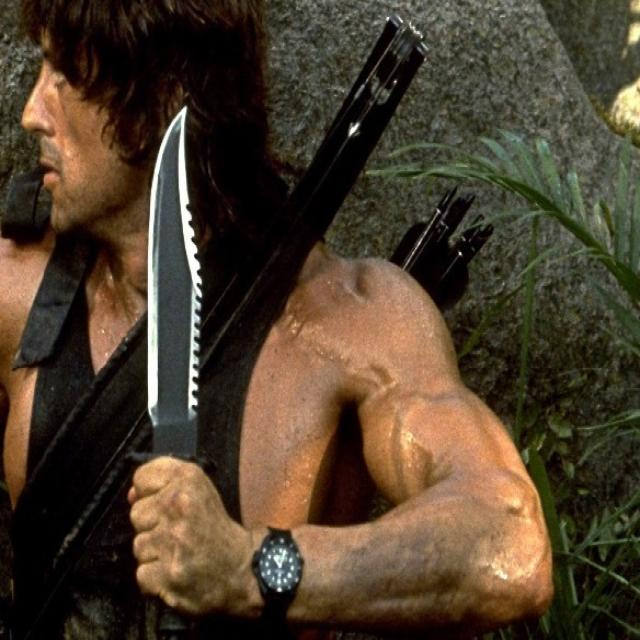knife: (143, 105, 216, 462)
